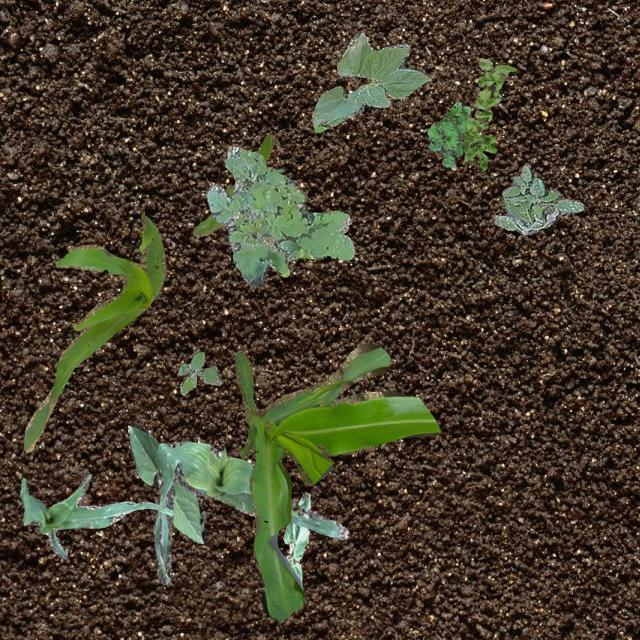crop: (233, 342, 440, 622), (22, 212, 164, 452), (152, 439, 348, 584), (18, 474, 174, 558), (311, 32, 429, 132), (127, 423, 206, 542), (283, 492, 309, 588)
weed: (205, 146, 352, 286), (192, 134, 306, 235), (492, 162, 582, 234), (462, 56, 514, 168), (426, 100, 469, 168), (178, 351, 220, 394)
